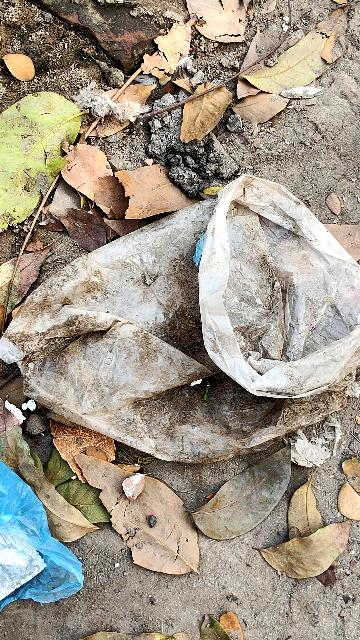polythene: (20, 196, 360, 456), (3, 468, 60, 601)
